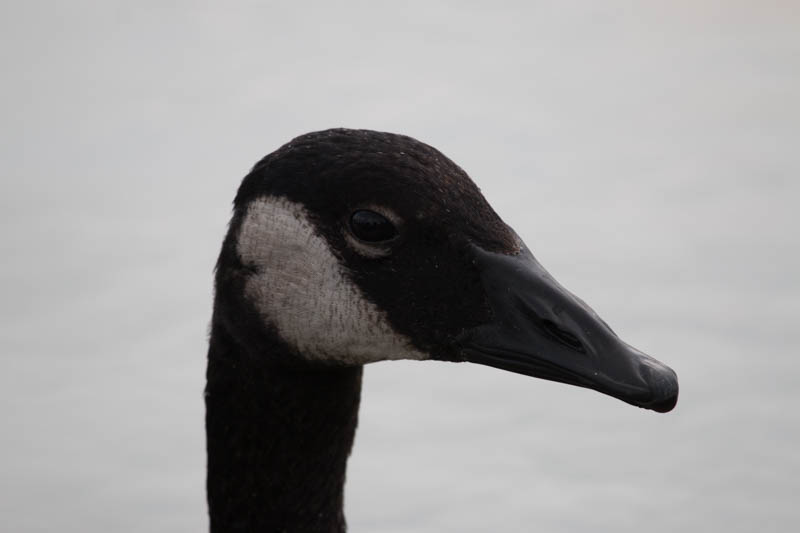goose-head: (208, 129, 679, 414)
